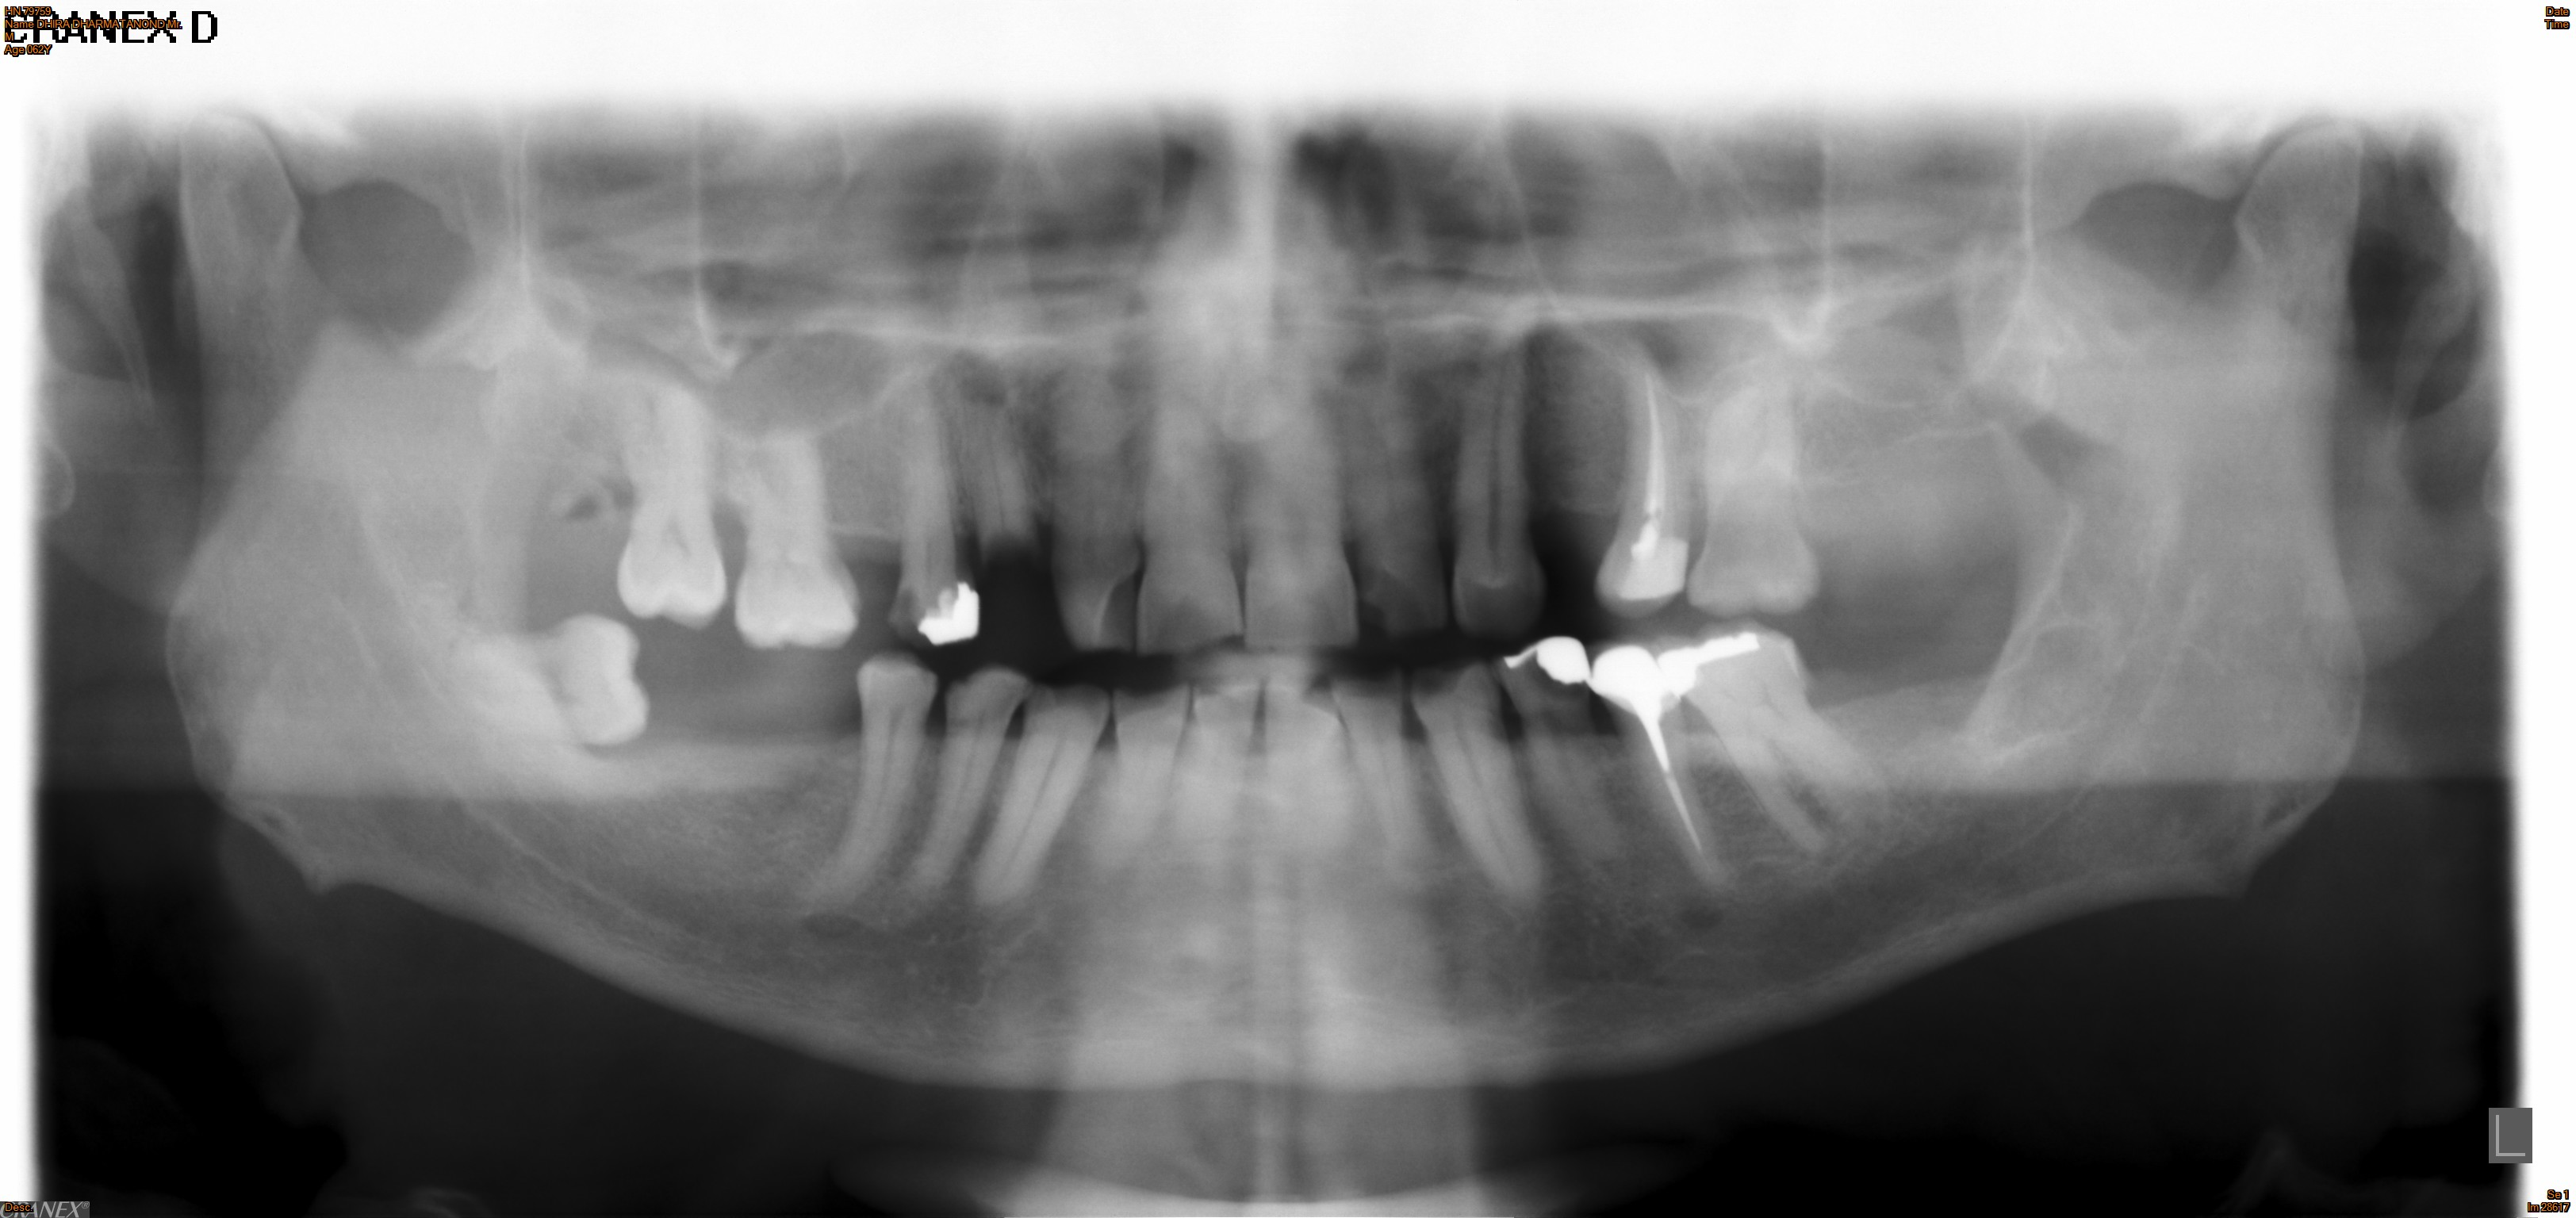periodontitis: (1667, 624, 1901, 865), (1689, 368, 1835, 629), (716, 414, 869, 662), (1580, 348, 1715, 629), (606, 364, 734, 640)
